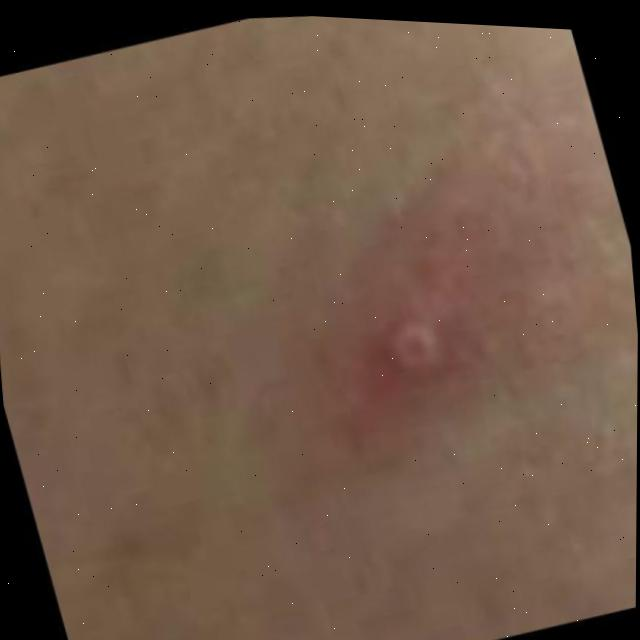Eczema: (350, 193, 530, 394)
